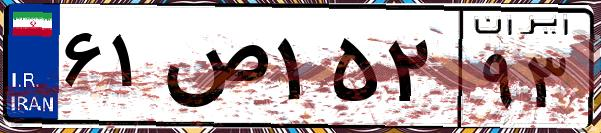1: (270, 28, 330, 110), (110, 28, 158, 98)
2: (385, 28, 445, 110)
3: (525, 38, 570, 115)
5: (330, 28, 385, 110)
6: (57, 26, 110, 100)
9: (475, 38, 525, 113)
ص: (158, 20, 270, 120)
